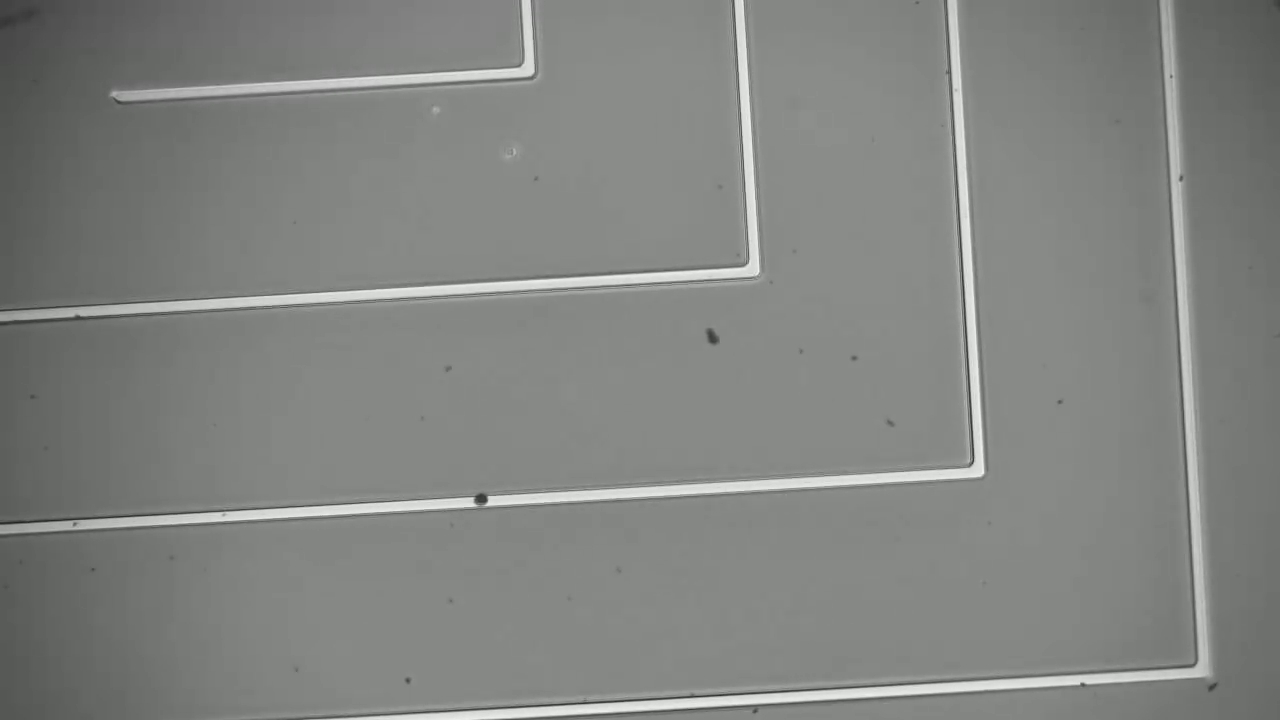stains_enbedded: (469, 485, 497, 513)
